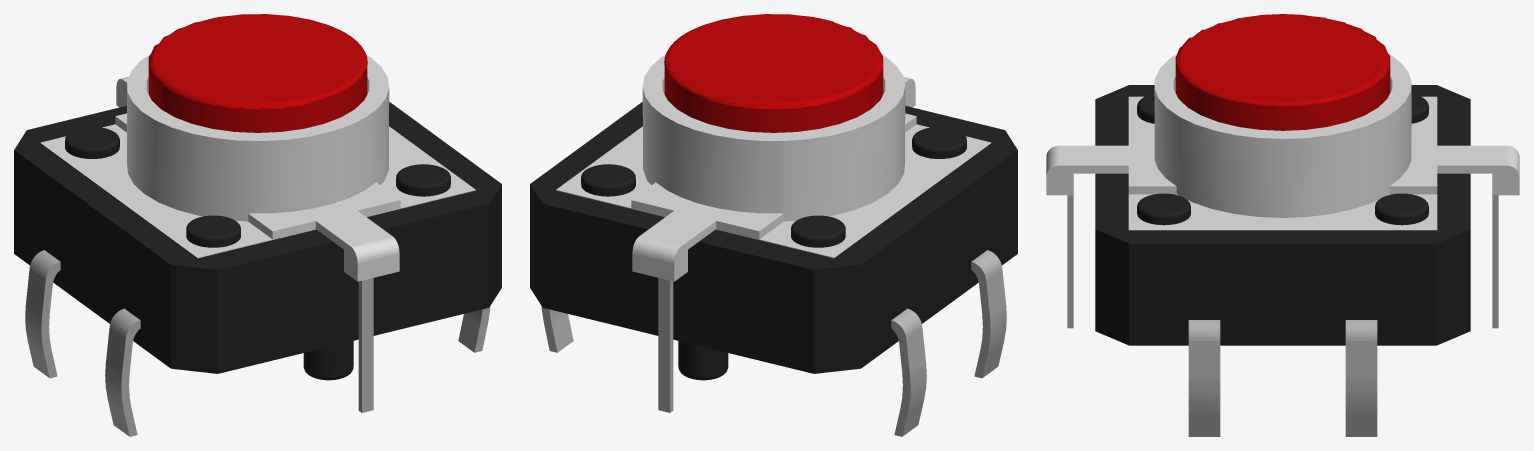
The model's file is sfe-tactal_switch_-_thru_12mmx12mm_-_illuminated_-_red.glb.
3 views of the same model, side by side, from view 1: azimuth 30°, elevation 25°; view 2: azimuth 150°, elevation 25°; view 3: azimuth 270°, elevation 25° (orthographic).
Parts seen in each view (by area): view 1: 0_0_0_0, 0.75_0.75_0.75_0.85, 0.5_0_0_0, 0.4166666666666667_0.4166666666666667_0.4166666666666667_0; view 2: 0_0_0_0, 0.75_0.75_0.75_0.85, 0.5_0_0_0, 0.4166666666666667_0.4166666666666667_0.4166666666666667_0; view 3: 0_0_0_0, 0.75_0.75_0.75_0.85, 0.5_0_0_0, 0.4166666666666667_0.4166666666666667_0.4166666666666667_0.
Boxes of the visible parts, x1,y1,x2,y2 form: 0_0_0_0: (14,102,501,380); 0.75_0.75_0.75_0.85: (40,54,475,281); 0.5_0_0_0: (148,14,367,132); 0.4166666666666667_0.4166666666666667_0.4166666666666667_0: (25,250,490,436); 0_0_0_0: (530,102,1017,380); 0.75_0.75_0.75_0.85: (556,55,991,281); 0.5_0_0_0: (664,14,883,132); 0.4166666666666667_0.4166666666666667_0.4166666666666667_0: (541,250,1006,436); 0_0_0_0: (1095,85,1470,345); 0.75_0.75_0.75_0.85: (1046,53,1519,230); 0.5_0_0_0: (1175,14,1390,130); 0.4166666666666667_0.4166666666666667_0.4166666666666667_0: (1067,174,1498,436).
Size of the model in its own units: 1.34 by 1.04 by 1.52.
